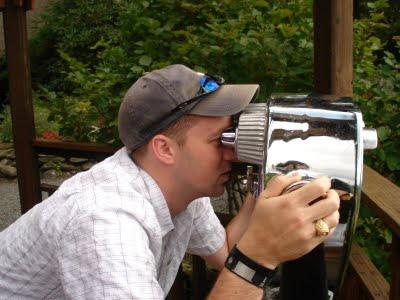person: (5, 67, 338, 299)
